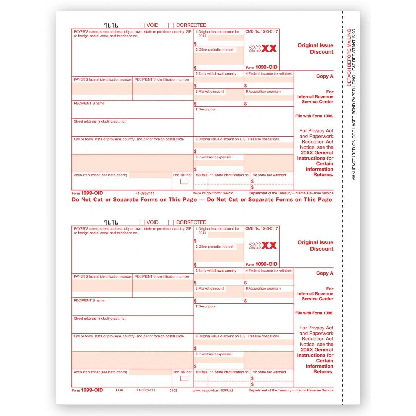checkbox: (179, 177, 189, 185), (179, 374, 189, 382), (138, 21, 146, 29), (167, 21, 175, 29), (138, 219, 146, 227), (167, 219, 175, 227)
textbox: (70, 27, 196, 79), (70, 224, 196, 276), (192, 105, 295, 138), (192, 301, 295, 334), (70, 295, 195, 318), (71, 312, 196, 335), (70, 330, 195, 353), (70, 116, 196, 138), (70, 99, 196, 120), (70, 135, 195, 155), (192, 331, 296, 353), (71, 366, 174, 388), (192, 135, 296, 156), (70, 171, 174, 191), (70, 271, 134, 298), (70, 75, 135, 101), (131, 75, 196, 101), (131, 272, 196, 298), (192, 241, 246, 269), (192, 45, 246, 72), (242, 265, 296, 287), (193, 27, 247, 48), (192, 87, 246, 108), (192, 69, 246, 90), (241, 69, 295, 90), (243, 87, 297, 108), (192, 152, 246, 173), (192, 265, 246, 286), (191, 283, 245, 304), (242, 284, 296, 305), (192, 349, 246, 370), (192, 224, 245, 245), (249, 367, 296, 383), (249, 170, 295, 186), (207, 170, 253, 186), (206, 367, 253, 382), (206, 181, 252, 192), (249, 181, 296, 191), (249, 378, 296, 388), (206, 379, 253, 388), (192, 169, 210, 186), (192, 367, 209, 383), (192, 181, 209, 192), (191, 379, 211, 388)
